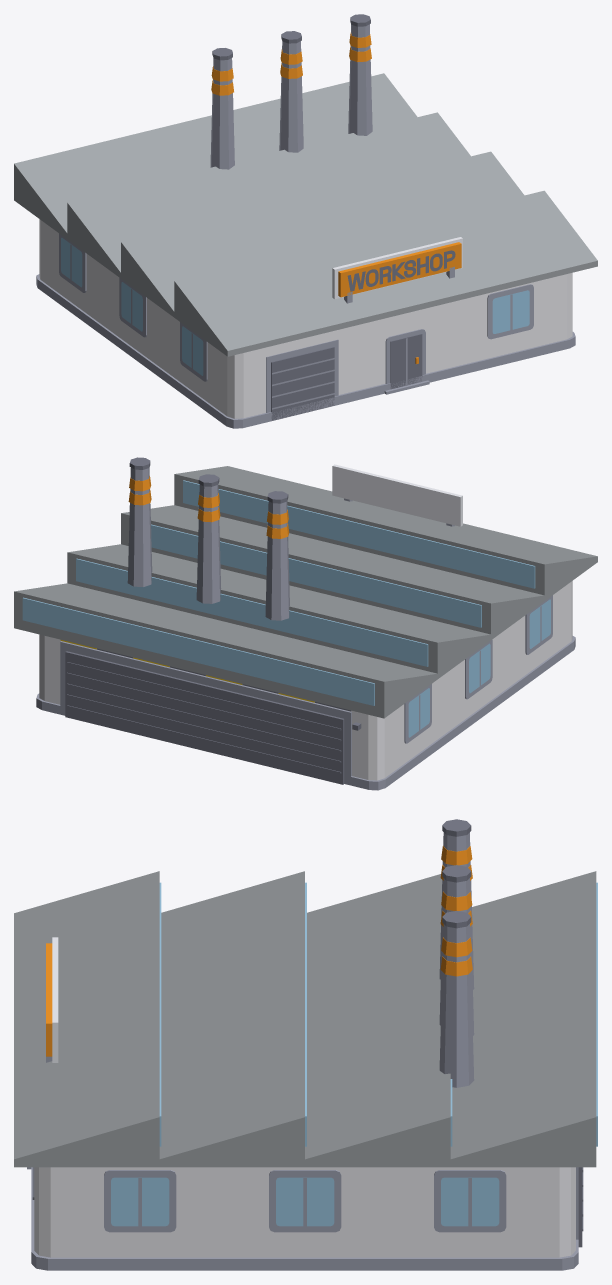
The model's file is workshop-2x2-t3-tone-a.glb.
The picture shows the model from 3 angles, top to bottom: view 1: azimuth 30°, elevation 25°; view 2: azimuth 150°, elevation 25°; view 3: azimuth 270°, elevation 25°; orthographic projection. The views are drawn at different scales.
Visible parts, largest first — view 1: workshop-2x2-t3-tone-a; view 2: workshop-2x2-t3-tone-a; view 3: workshop-2x2-t3-tone-a.
Part boxes in pixels (x1,y1,x2,y2): workshop-2x2-t3-tone-a: [14, 14, 597, 428]; workshop-2x2-t3-tone-a: [14, 457, 597, 790]; workshop-2x2-t3-tone-a: [14, 819, 597, 1270].
Size of the model in its own units: 2 by 1.18 by 2.01.
1 material, 1 textured.
